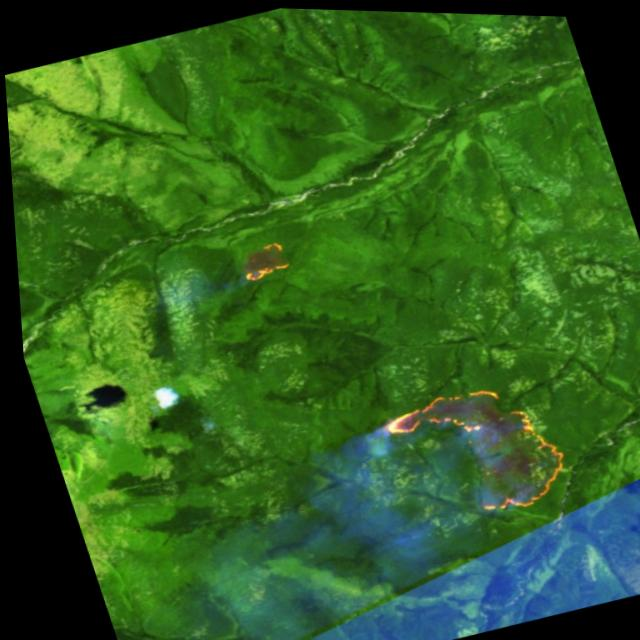fire: (366, 361, 580, 538), (225, 234, 295, 290)
